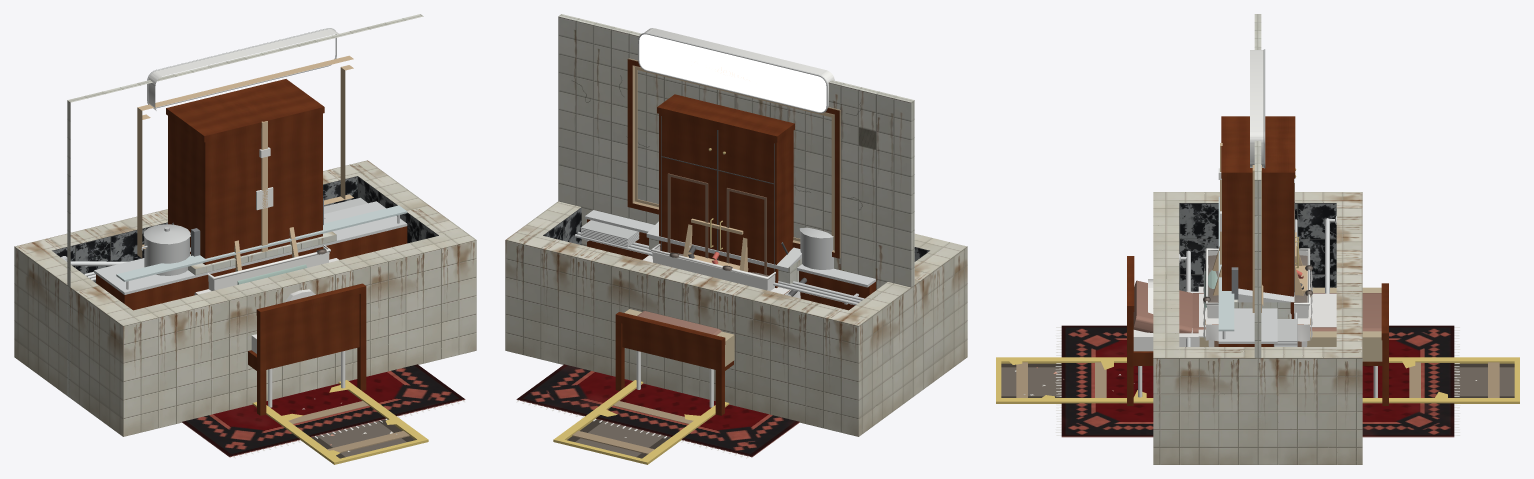
Rendered from sanatorium_rooms.glb.
3 views of the same model, side by side, from view 1: azimuth 30°, elevation 25°; view 2: azimuth 150°, elevation 25°; view 3: azimuth 270°, elevation 25° (orthographic). The views are drawn at different scales.
Visible parts, largest first — view 1: p_san_hydro_bath, p_san_wardrobe, p_san_buffet, p_san_rug, p_san_bed, p_san_floor_gap, p_san_tile_mural, p_san_tile_wall, p_san_slogan, p_san_charcot_desk, p_san_mud_tank, p_san_scale; view 2: p_san_hydro_bath, p_san_tile_wall, p_san_wardrobe, p_san_rug, p_san_slogan, p_san_buffet, p_san_bed, p_san_floor_gap, p_san_tile_mural, p_san_mud_tank, p_san_charcot_desk, p_san_couch (+1 smaller); view 3: p_san_hydro_bath, p_san_rug, p_san_wardrobe, p_san_floor_gap, p_san_bed, p_san_couch, p_san_buffet, p_san_tile_wall, p_san_slogan, p_san_mud_tank, p_san_charcot_desk, p_san_dining_table (+2 smaller).
Boxes of the visible parts, x1,y1,x2,y2 form: p_san_hydro_bath: (14, 160, 476, 436); p_san_wardrobe: (166, 79, 324, 264); p_san_buffet: (84, 197, 407, 310); p_san_rug: (182, 364, 465, 458); p_san_bed: (248, 283, 366, 415); p_san_floor_gap: (252, 380, 428, 464); p_san_tile_mural: (137, 55, 353, 258); p_san_tile_wall: (67, 14, 423, 397); p_san_slogan: (147, 28, 339, 110); p_san_charcot_desk: (172, 200, 336, 275); p_san_mud_tank: (207, 245, 330, 290); p_san_scale: (256, 121, 273, 251); p_san_hydro_bath: (505, 201, 967, 436); p_san_tile_wall: (558, 14, 914, 289); p_san_wardrobe: (657, 94, 794, 287); p_san_rug: (516, 364, 799, 458); p_san_slogan: (638, 28, 834, 113); p_san_buffet: (574, 210, 875, 310); p_san_bed: (615, 309, 734, 415); p_san_floor_gap: (553, 380, 729, 464); p_san_tile_mural: (627, 58, 840, 258); p_san_mud_tank: (651, 243, 775, 290); p_san_charcot_desk: (646, 221, 806, 296); p_san_couch: (636, 311, 721, 407); p_san_hydro_bath: (1153, 192, 1362, 464); p_san_rug: (1055, 325, 1460, 437); p_san_wardrobe: (1221, 116, 1298, 318); p_san_floor_gap: (996, 357, 1519, 403); p_san_bed: (1127, 256, 1388, 405); p_san_couch: (1133, 280, 1381, 397); p_san_buffet: (1218, 196, 1297, 346); p_san_tile_wall: (1254, 14, 1261, 440); p_san_slogan: (1250, 49, 1265, 168); p_san_mud_tank: (1203, 248, 1312, 346); p_san_charcot_desk: (1231, 267, 1303, 346); p_san_dining_table: (1203, 264, 1312, 341).
Bounding box in the file's own units: 3 × 3.06 × 4.
43 materials, 9 textured.
